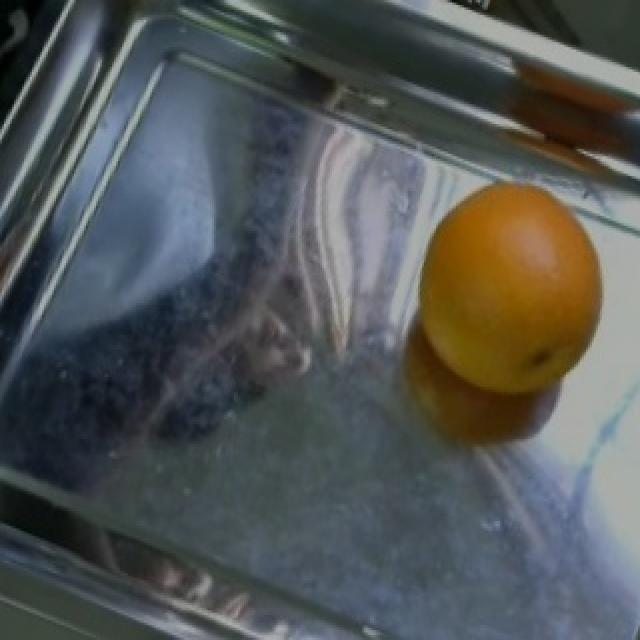Fruit: (392, 174, 636, 416)
